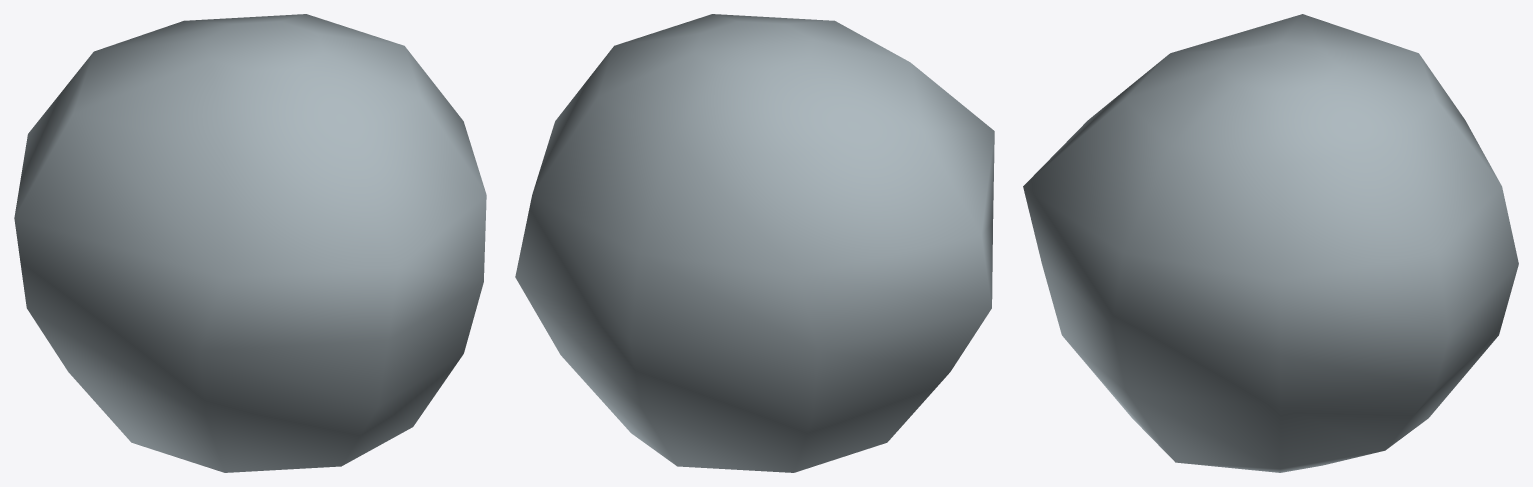
Rendered from SmallGreyStone.fbx.
The picture shows the model from 3 angles, left to right: view 1: azimuth 30°, elevation 25°; view 2: azimuth 150°, elevation 25°; view 3: azimuth 270°, elevation 25°; orthographic projection. The views are drawn at different scales.
Visible parts, largest first — view 1: nurbsToPoly1; view 2: nurbsToPoly1; view 3: nurbsToPoly1.
Boxes of the visible parts, <box> form: nurbsToPoly1: <box>14,14,486,472</box>; nurbsToPoly1: <box>515,14,994,472</box>; nurbsToPoly1: <box>1023,14,1518,472</box>.
Bounding box in the file's own units: 8.37 × 7.2 × 8.51.
Materials: 1 (1 with a texture image).
